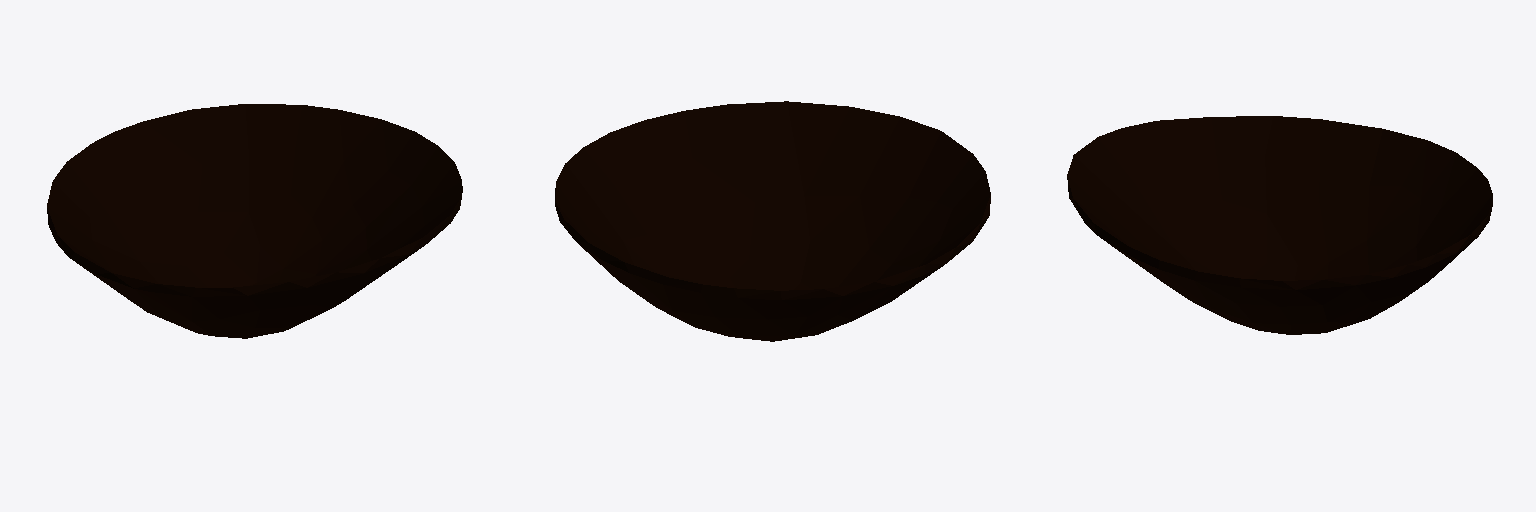
Rendered from Bowl.obj.
3 renders of one model, left to right at view 1: azimuth 30°, elevation 25°; view 2: azimuth 150°, elevation 25°; view 3: azimuth 270°, elevation 25°, orthographic.
Parts seen in each view (by area): view 1: Circle; view 2: Circle; view 3: Circle.
Part boxes in pixels (bbox=[...]): Circle: bbox=[47, 104, 462, 338]; Circle: bbox=[555, 101, 990, 341]; Circle: bbox=[1067, 116, 1492, 334].
Size of the model in its own units: 2.01 by 0.7152 by 2.01.